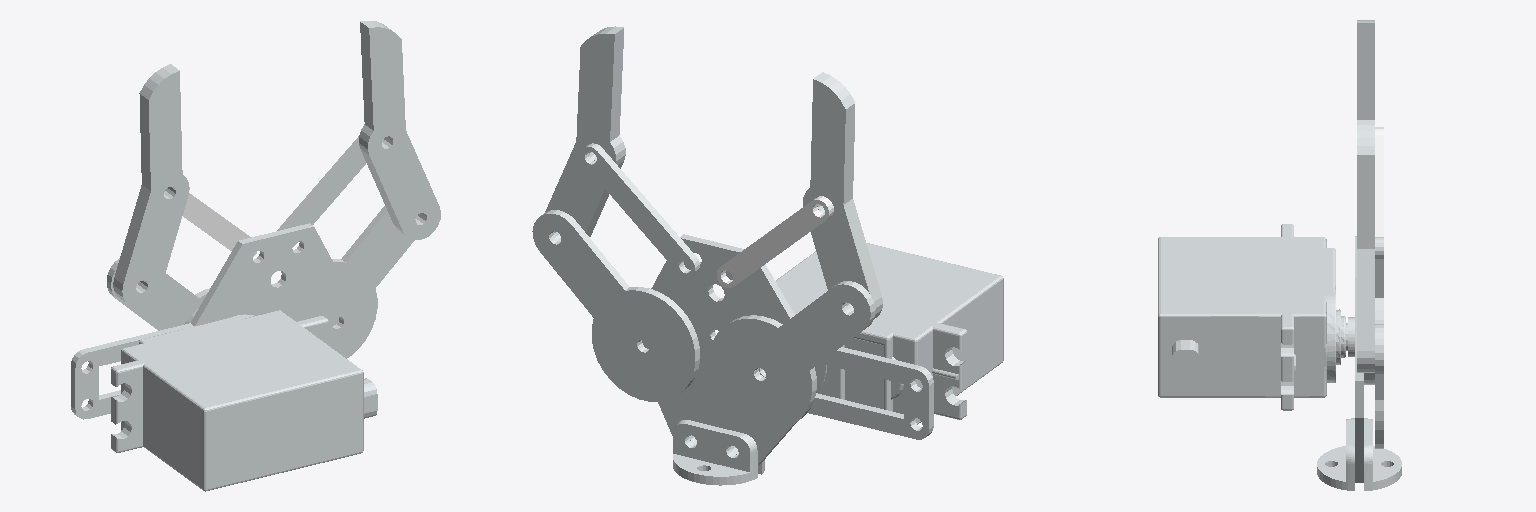
robot.urdf — gripper:
<?xml version="1.0" encoding="utf-8"?>
<!-- This URDF was automatically created by SolidWorks to URDF Exporter! Originally created by [author] ([email redacted]) 
     Commit Version: 1.6.0-4-g7f85cfe  Build Version: 1.6.7995.38578
     For more information, please see http://wiki.ros.org/sw_urdf_exporter -->
<robot
  name="gripper">
  <link
    name="grip_base_link">
    <inertial>
      <origin
        xyz="-0.020531 -0.021072 0.02563"
        rpy="0 0 0" />
      <mass
        value="0.0367" />
      <inertia
        ixx="5.4785E-06"
        ixy="-5.5445E-08"
        ixz="-8.0352E-09"
        iyy="7.0866E-06"
        iyz="-7.7291E-13"
        izz="9.4579E-06" />
    </inertial>
    <visual>
      <origin
        xyz="0 0 0"
        rpy="0 0 0" />
      <geometry>
        <mesh
          filename="package://gripper/meshes/grip_base_link.STL" />
      </geometry>
      <material
        name="">
        <color
          rgba="0.89804 0.92157 0.92941 1" />
      </material>
    </visual>
    <collision>
      <origin
        xyz="0 0 0"
        rpy="0 0 0" />
      <geometry>
        <mesh
          filename="package://gripper/meshes/grip_base_link.STL" />
      </geometry>
    </collision>
  </link>
  <link
    name="hand_link1">
    <inertial>
      <origin
        xyz="-0.00523492547000686 0.00492501926066897 -0.00100000000000003"
        rpy="0 0 0" />
      <mass
        value="0.00142065726893586" />
      <inertia
        ixx="1.22964066308207E-07"
        ixy="8.46203793647206E-08"
        ixz="3.23650142493458E-27"
        iyy="1.33298297071557E-07"
        iyz="-7.87479068447034E-25"
        izz="2.55315258533807E-07" />
    </inertial>
    <visual>
      <origin
        xyz="0 0 0"
        rpy="0 0 0" />
      <geometry>
        <mesh
          filename="package://gripper/meshes/hand_link1.STL" />
      </geometry>
      <material
        name="">
        <color
          rgba="0.898039215686275 0.92156862745098 0.929411764705882 1" />
      </material>
    </visual>
    <collision>
      <origin
        xyz="0 0 0"
        rpy="0 0 0" />
      <geometry>
        <mesh
          filename="package://gripper/meshes/hand_link1.STL" />
      </geometry>
    </collision>
  </link>
  <joint
    name="hand_joint1"
    type="revolute">
    <origin
      xyz="0.015 0.00535 0.02625"
      rpy="1.5708 0 3.1416" />
    <parent
      link="grip_base_link" />
    <child
      link="hand_link1" />
    <axis
      xyz="0 0 1" />
    <limit
      lower="0.5"
      upper="-0.5"
      effort="10"
      velocity="10" />
    <mimic joint="hand_joint2" multiplier="1" />
  </joint>
  <link
    name="hand_grip1">
    <inertial>
      <origin
        xyz="0.00594567238082101 0.0203210851839823 -0.00399999969237515"
        rpy="0 0 0" />
      <mass
        value="0.00187045062582082" />
      <inertia
        ixx="4.0782602368236E-07"
        ixy="-7.95845983485053E-08"
        ixz="-1.31395403259131E-14"
        iyy="3.53476941089525E-08"
        iyz="-2.03499073074993E-14"
        izz="4.38185846898205E-07" />
    </inertial>
    <visual>
      <origin
        xyz="0 0 0"
        rpy="0 0 0" />
      <geometry>
        <mesh
          filename="package://gripper/meshes/hand_grip1.STL" />
      </geometry>
      <material
        name="">
        <color
          rgba="0.898039215686275 0.92156862745098 0.929411764705882 1" />
      </material>
    </visual>
    <collision>
      <origin
        xyz="0 0 0"
        rpy="0 0 0" />
      <geometry>
        <mesh
          filename="package://gripper/meshes/hand_grip1.STL" />
      </geometry>
    </collision>
  </link>
  <joint
    name="hand_grip_joint1"
    type="revolute">
    <origin
      xyz="-0.021122 0.019871 0"
      rpy="0 0 0" />
    <parent
      link="hand_link1" />
    <child
      link="hand_grip1" />
    <axis
      xyz="0 0 1" />
    <limit
      lower="0.5"
      upper="-0.5"
      effort="10"
      velocity="10" />
    <mimic joint="hand_joint1" multiplier="-1" />
  </joint>
  <link
    name="hand_link2">
    <inertial>
      <origin
        xyz="0.00521580581542747 0.00494526329837284 -0.00100000000000003"
        rpy="0 0 0" />
      <mass
        value="0.00142065726893586" />
      <inertia
        ixx="1.2361988419095E-07"
        ixy="-8.46578754757815E-08"
        ixz="6.873768146667E-25"
        iyy="1.32642479188815E-07"
        iyz="7.7917326290555E-25"
        izz="2.55315258533807E-07" />
    </inertial>
    <visual>
      <origin
        xyz="0 0 0"
        rpy="0 0 0" />
      <geometry>
        <mesh
          filename="package://gripper/meshes/hand_link2.STL" />
      </geometry>
      <material
        name="">
        <color
          rgba="0.898039215686275 0.92156862745098 0.929411764705882 1" />
      </material>
    </visual>
    <collision>
      <origin
        xyz="0 0 0"
        rpy="0 0 0" />
      <geometry>
        <mesh
          filename="package://gripper/meshes/hand_link2.STL" />
      </geometry>
    </collision>
  </link>
  <joint
    name="hand_joint2"
    type="revolute">
    <origin
      xyz="-0.013 0.00535 0.02625"
      rpy="1.5708 0 3.1416" />
    <parent
      link="grip_base_link" />
    <child
      link="hand_link2" />
    <axis
      xyz="0 0 -1" />
    <limit
      lower="0.5"
      upper="-0.5"
      effort="10"
      velocity="10" />
  </joint>
  <link
    name="hand_grip2">
    <inertial>
      <origin
        xyz="-0.00445045993813949 0.020700021082788 -0.00400000030762493"
        rpy="0 0 0" />
      <mass
        value="0.00187045056346137" />
      <inertia
        ixx="4.17408949625888E-07"
        ixy="5.16953875644496E-08"
        ixz="-1.17218822252589E-14"
        iyy="2.57647082341614E-08"
        iyz="2.12711331247855E-14"
        izz="4.38185787066717E-07" />
    </inertial>
    <visual>
      <origin
        xyz="0 0 0"
        rpy="0 0 0" />
      <geometry>
        <mesh
          filename="package://gripper/meshes/hand_grip2.STL" />
      </geometry>
      <material
        name="">
        <color
          rgba="0.898039215686275 0.92156862745098 0.929411764705882 1" />
      </material>
    </visual>
    <collision>
      <origin
        xyz="0 0 0"
        rpy="0 0 0" />
      <geometry>
        <mesh
          filename="package://gripper/meshes/hand_grip2.STL" />
      </geometry>
    </collision>
  </link>
  <joint
    name="hand_grip_joint2"
    type="revolute">
    <origin
      xyz="0.021045 0.019953 0"
      rpy="0 0 0" />
    <parent
      link="hand_link2" />
    <child
      link="hand_grip2" />
    <axis
      xyz="0 0 -1" />
    <limit
      lower="0.4"
      upper="-0.4"
      effort="10"
      velocity="10" />
    <mimic joint="hand_joint2" multiplier="-1" />
  </joint>
  <link
    name="mid_link1">
    <inertial>
      <origin
        xyz="-0.0113240288488907 0.00983698991711786 -0.00100000000000003"
        rpy="0 0 0" />
      <mass
        value="0.000310995574287565" />
      <inertia
        ixx="1.1783554463848E-08"
        ixy="1.26737094661928E-08"
        ixz="7.03369446242362E-26"
        iyy="1.53636899711256E-08"
        iyz="3.46383537128379E-26"
        izz="2.69399140521153E-08" />
    </inertial>
    <visual>
      <origin
        xyz="0 0 0"
        rpy="0 0 0" />
      <geometry>
        <mesh
          filename="package://gripper/meshes/mid_link1.STL" />
      </geometry>
      <material
        name="">
        <color
          rgba="0.898039215686275 0.92156862745098 0.929411764705882 1" />
      </material>
    </visual>
    <collision>
      <origin
        xyz="0 0 0"
        rpy="0 0 0" />
      <geometry>
        <mesh
          filename="package://gripper/meshes/mid_link1.STL" />
      </geometry>
    </collision>
  </link>
  <joint
    name="mid_joint_1"
    type="revolute">
    <origin
      xyz="0.005 0.00535 0.04675"
      rpy="1.5708 0 3.1416" />
    <parent
      link="grip_base_link" />
    <child
      link="mid_link1" />
    <axis
      xyz="0 0 -1" />
    <limit
      lower="0.6"
      upper="-0.6"
      effort="10"
      velocity="10" />
    <mimic joint="hand_joint2" multiplier="-1" />
  </joint>
  <link
    name="mid_link2">
    <inertial>
      <origin
        xyz="0 0 0"
        rpy="0 0 0" />
      <mass
        value="0" />
      <inertia
        ixx="0"
        ixy="0"
        ixz="0"
        iyy="0"
        iyz="0"
        izz="0" />
    </inertial>
    <visual>
      <origin
        xyz="0 0 0"
        rpy="0 0 0" />
      <geometry>
        <mesh
          filename="package://gripper/meshes/mid_link2.STL" />
      </geometry>
      <material
        name="">
        <color
          rgba="1 1 1 1" />
      </material>
    </visual>
    <collision>
      <origin
        xyz="0 0 0"
        rpy="0 0 0" />
      <geometry>
        <mesh
          filename="package://gripper/meshes/mid_link2.STL" />
      </geometry>
    </collision>
  </link>
  <joint
    name="mid_joint2"
    type="revolute">
    <origin
      xyz="-0.005 0.00535 0.04675"
      rpy="1.5708 0 3.1416" />
    <parent
      link="grip_base_link" />
    <child
      link="mid_link2" />
    <axis
      xyz="0 0 -1" />
    <limit
      lower="0.6"
      upper="-0.6"
      effort="10"
      velocity="10" />
    <mimic joint="hand_joint2" multiplier="1" />
  </joint>

  <link name="tool_link" />

  <joint name="Revolute 100" type="fixed">
    <origin xyz="0.2 0 0" rpy="0 0 0"/>
    <parent link="grip_base_link"/>
    <child link="tool_link"/>
  </joint>

</robot>

--- What the picture shows (computed from the rendered views, not written in the file) ---
Views: 3 orthographic renders of the robot side by side, from view 1: azimuth 30°, elevation 25°; view 2: azimuth 150°, elevation 25°; view 3: azimuth 270°, elevation 25°.
Robot: gripper — 8 links, 7 joints (6 revolute, 1 fixed); root link grip_base_link; default pose: all joints at 0.
Visible links, largest first — view 1: grip_base_link, hand_grip2, hand_grip1, hand_link1, mid_link1, hand_link2, mid_link2; view 2: grip_base_link, hand_link1, hand_link2, hand_grip2, hand_grip1, mid_link1, mid_link2; view 3: grip_base_link, hand_grip1, hand_grip2, hand_link1, mid_link2, mid_link1.
Boxes of the visible links, x1=… form: grip_base_link: x1=71, y1=223, x2=377, y2=491; hand_grip2: x1=113, y1=64, x2=189, y2=307; hand_grip1: x1=359, y1=21, x2=440, y2=239; hand_link1: x1=332, y1=206, x2=414, y2=358; mid_link1: x1=277, y1=136, x2=365, y2=246; hand_link2: x1=107, y1=258, x2=209, y2=330; mid_link2: x1=183, y1=193, x2=256, y2=256; grip_base_link: x1=642, y1=234, x2=1003, y2=485; hand_link1: x1=532, y1=210, x2=699, y2=401; hand_link2: x1=708, y1=281, x2=875, y2=430; hand_grip2: x1=803, y1=72, x2=882, y2=318; hand_grip1: x1=545, y1=26, x2=625, y2=240; mid_link1: x1=580, y1=143, x2=699, y2=277; mid_link2: x1=717, y1=196, x2=833, y2=287; grip_base_link: x1=1158, y1=224, x2=1401, y2=490; hand_grip1: x1=1357, y1=120, x2=1374, y2=372; hand_grip2: x1=1357, y1=20, x2=1374, y2=119; hand_link1: x1=1375, y1=324, x2=1383, y2=448; mid_link2: x1=1375, y1=127, x2=1383, y2=236; mid_link1: x1=1375, y1=237, x2=1383, y2=297.
Bounding box of the posed robot: 0.0926 × 0.0529 × 0.0959 m (x, y, z).
7 mesh visuals loaded from 7 distinct referenced files (7 binary STL).